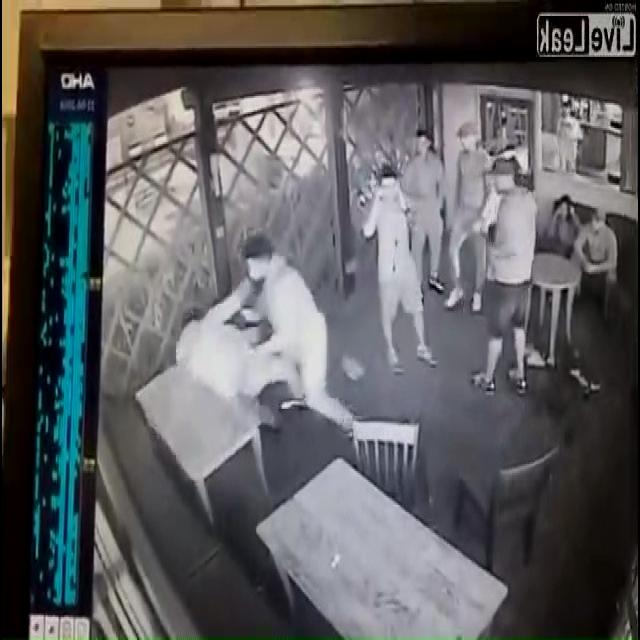fight: (176, 232, 348, 402)
